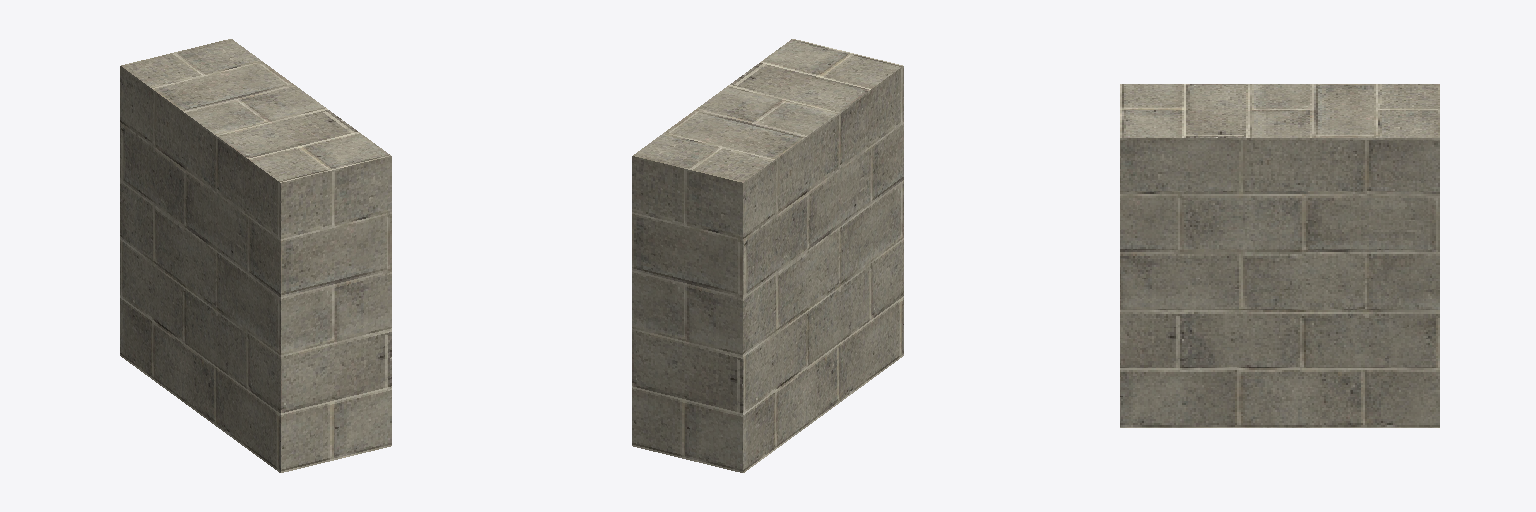
The picture shows the model from 3 angles: view 1: azimuth 30°, elevation 25°; view 2: azimuth 150°, elevation 25°; view 3: azimuth 270°, elevation 25°; orthographic projection.
Visible parts, largest first — view 1: Box01; view 2: Box01; view 3: Box01.
Part boxes in pixels (left/top/right/bottom): Box01: left=120, top=39, right=391, bottom=472; Box01: left=632, top=39, right=903, bottom=472; Box01: left=1120, top=84, right=1439, bottom=427.
Bounding box in the file's own units: 0.2 × 0.5 × 0.5.
1 materials, 1 textured.